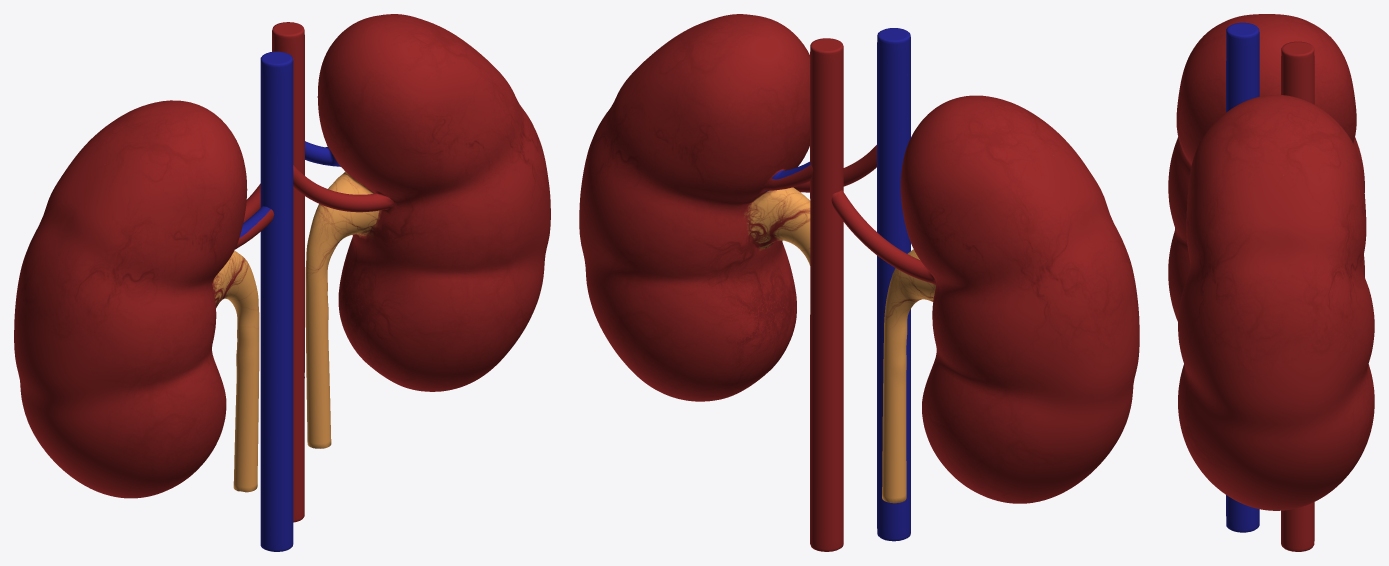
The model's file is kidneys.glb.
3 views of the same model, side by side, from view 1: azimuth 30°, elevation 25°; view 2: azimuth 150°, elevation 25°; view 3: azimuth 270°, elevation 25° (orthographic). The views are drawn at different scales.
Parts seen in each view (by area): view 1: kidney02:kidney03:Group12708, Group12708; view 2: kidney02:kidney03:Group12708, Group12708; view 3: Group12708, kidney02:kidney03:Group12708.
Boxes of the visible parts, x1,y1,x2,y2 form: kidney02:kidney03:Group12708: (14,22,304,551); Group12708: (293,14,550,448); kidney02:kidney03:Group12708: (810,28,1139,551); Group12708: (579,14,876,401); Group12708: (1178,94,1374,510); kidney02:kidney03:Group12708: (1168,14,1364,551).
Size of the model in its own units: 1.72 by 1.55 by 0.5823.
1 material, 1 textured.
